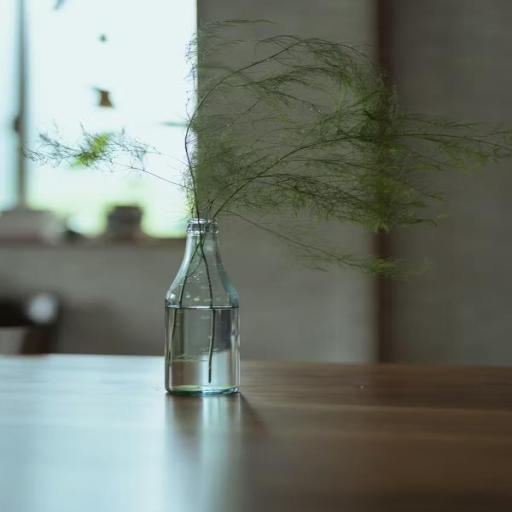bottle: (148, 211, 262, 407)
